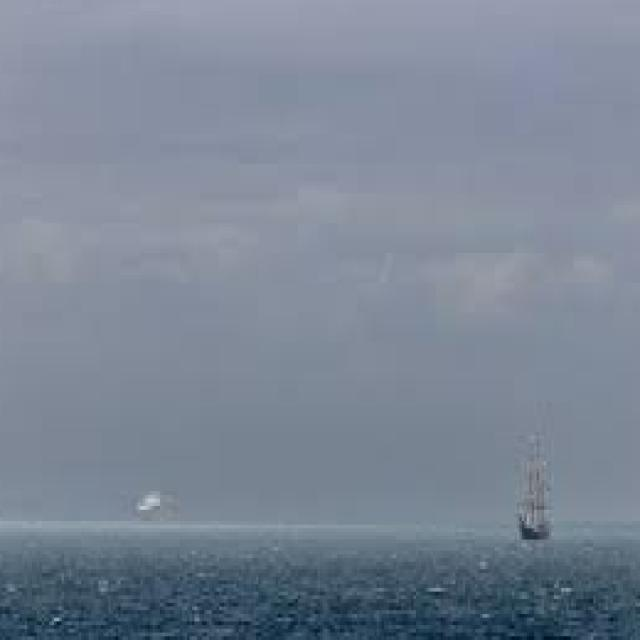fishing boat: (512, 436, 560, 546)
